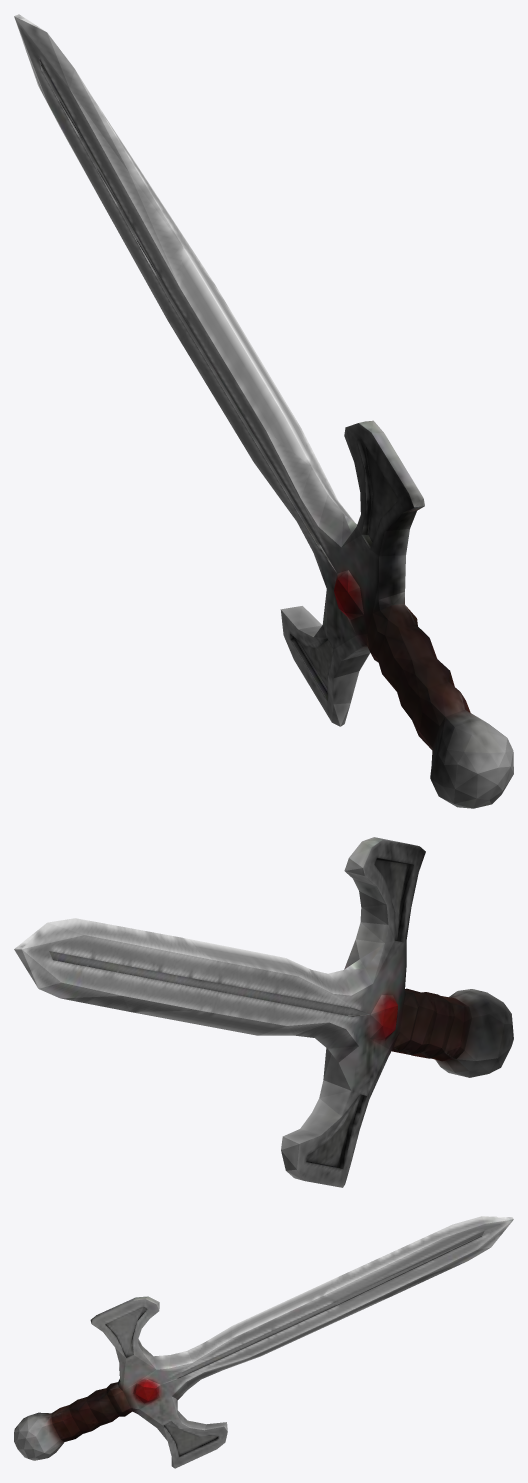
The model's file is sword.obj.
3 views of the same model, one above another, from view 1: azimuth 30°, elevation 25°; view 2: azimuth 150°, elevation 25°; view 3: azimuth 270°, elevation 25° (orthographic). The views are drawn at different scales.
Bounding box in the file's own units: 0.2389 × 1.58 × 2.85.
1 material, 1 textured.
